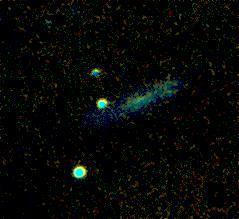star: (135, 77, 165, 107)
